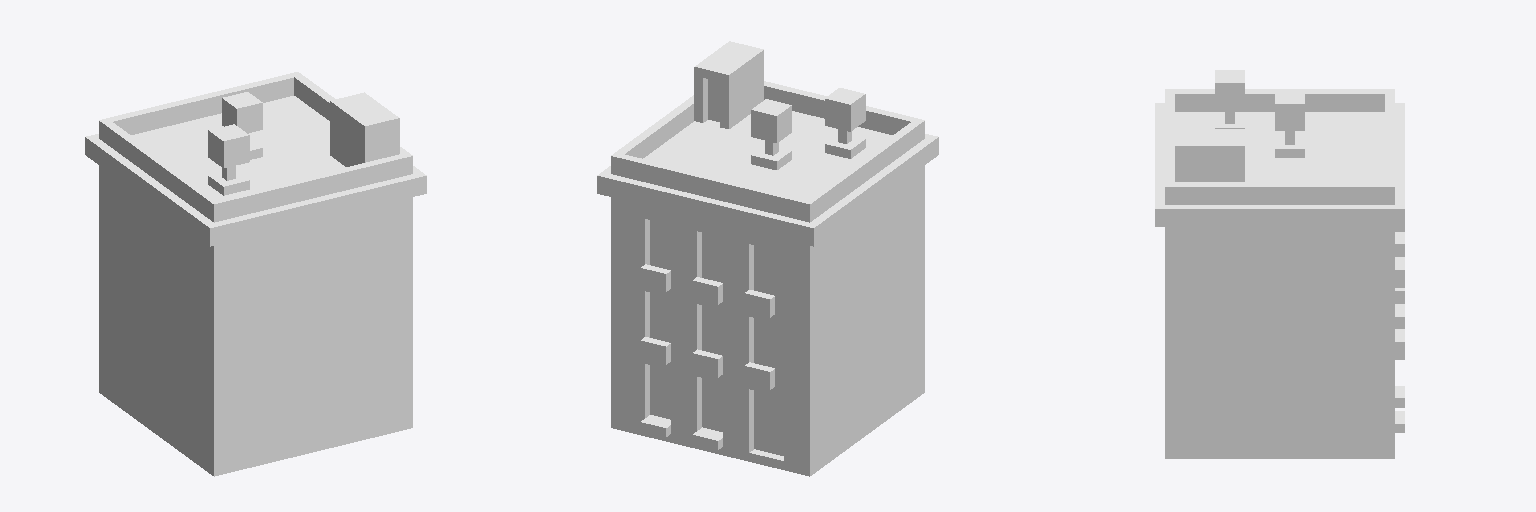
File: Lowishbuilding1.obj
3 renders of one model, left to right at view 1: azimuth 30°, elevation 25°; view 2: azimuth 150°, elevation 25°; view 3: azimuth 270°, elevation 25°, orthographic.
Parts seen in each view (by area): view 1: Lowishbuilding1; view 2: Lowishbuilding1; view 3: Lowishbuilding1.
Part boxes in pixels (x1,y1,x2,y2): Lowishbuilding1: (85,72,426,476); Lowishbuilding1: (597,41,938,476); Lowishbuilding1: (1155,70,1404,458).
Size of the model in its own units: 25 by 34 by 25.